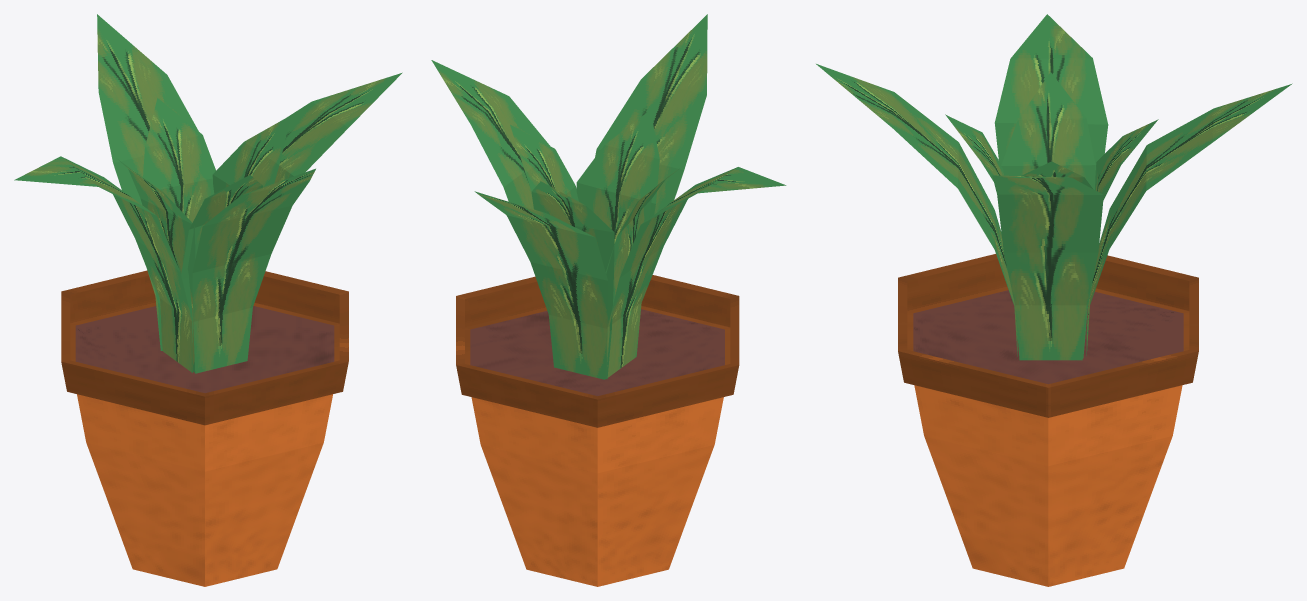
The model's file is Jarron.glb.
3 views of the same model, side by side, from view 1: azimuth 30°, elevation 25°; view 2: azimuth 150°, elevation 25°; view 3: azimuth 270°, elevation 25° (orthographic). The views are drawn at different scales.
Visible parts, largest first — view 1: Jarron; view 2: Jarron; view 3: Jarron.
Part boxes in pixels (<box>): Jarron: <box>14,14,402,586</box>; Jarron: <box>431,14,786,586</box>; Jarron: <box>816,14,1292,586</box>.
Bounding box in the file's own units: 5.19 × 6.14 × 5.47.
2 materials, 2 textured.
